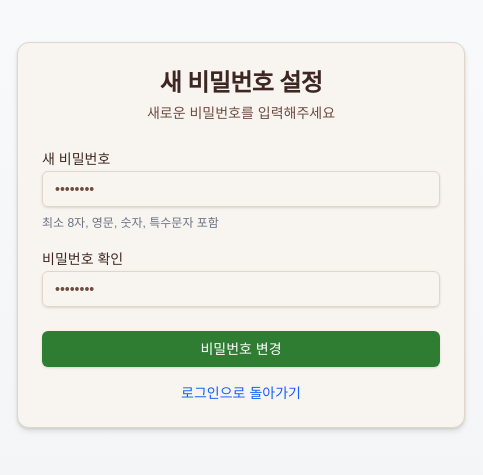
Scenario: UpdatePasswordPage › 비밀번호 유효성 검증 › 8자 미만의 비밀번호는 에러 메시지를 표시한다
Type "Test1!" into the password field labelled "새 비밀번호" at (241, 189), box [42, 171, 440, 207]
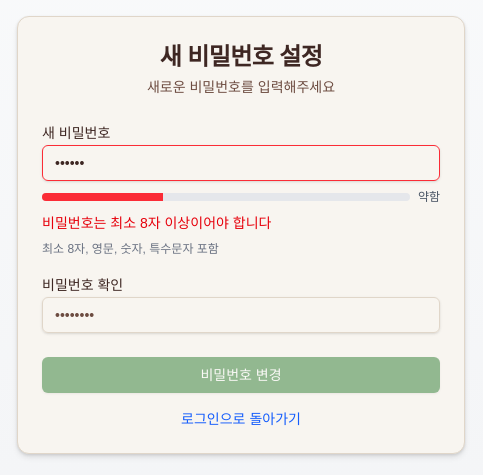
Check: the text "비밀번호는 최소 8자 이상이어야 합니다" is shown, box [42, 215, 271, 231]
